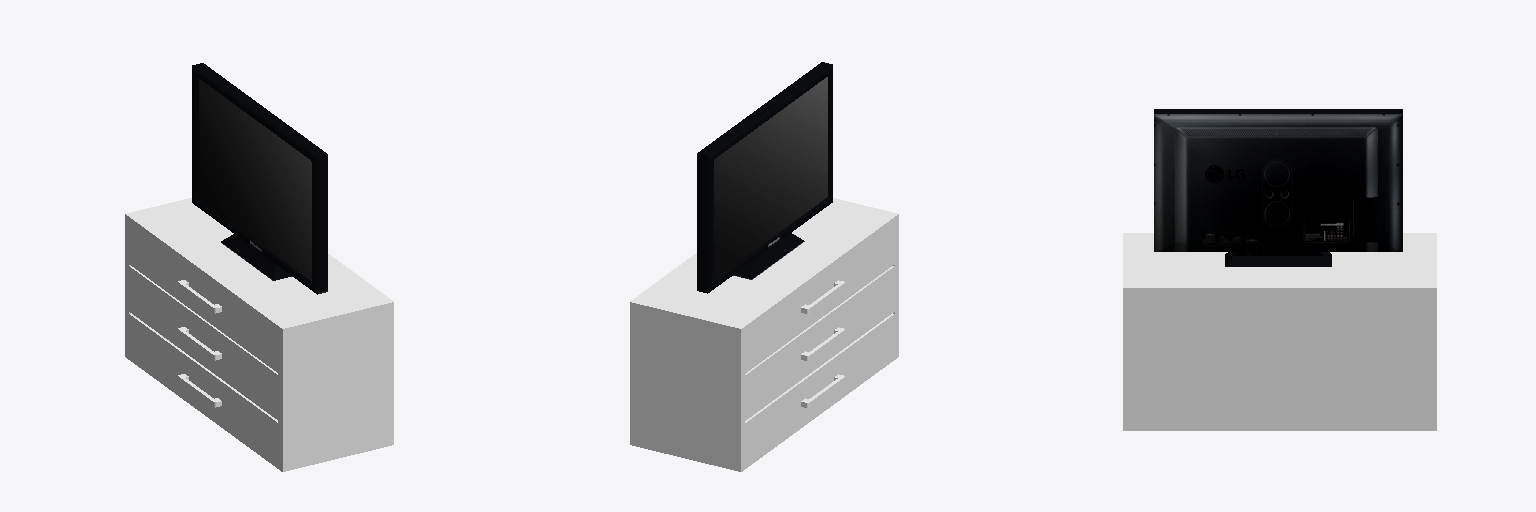
The picture shows the model from 3 angles: view 1: azimuth 30°, elevation 25°; view 2: azimuth 150°, elevation 25°; view 3: azimuth 270°, elevation 25°; orthographic projection.
Parts seen in each view (by area): view 1: bedside_table_2, cube1; view 2: bedside_table_2, cube1; view 3: bedside_table_2, cube1.
Boxes of the visible parts, x1=… form: bedside_table_2: x1=125, y1=198, x2=393, y2=471; cube1: x1=192, y1=63, x2=327, y2=294; bedside_table_2: x1=630, y1=198, x2=898, y2=471; cube1: x1=697, y1=62, x2=832, y2=293; bedside_table_2: x1=1123, y1=233, x2=1436, y2=430; cube1: x1=1154, y1=109, x2=1402, y2=266.
Bounding box in the file's own units: 3.92 × 9.17 × 8.96.
2 materials, 1 textured.